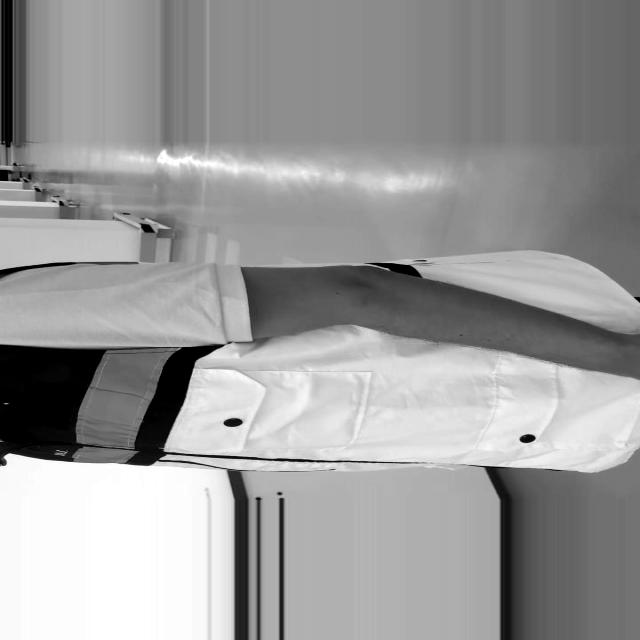Vest: (9, 346, 640, 474)
